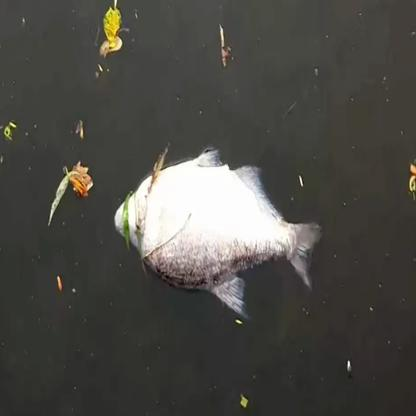deceased fish: (102, 146, 324, 314)
